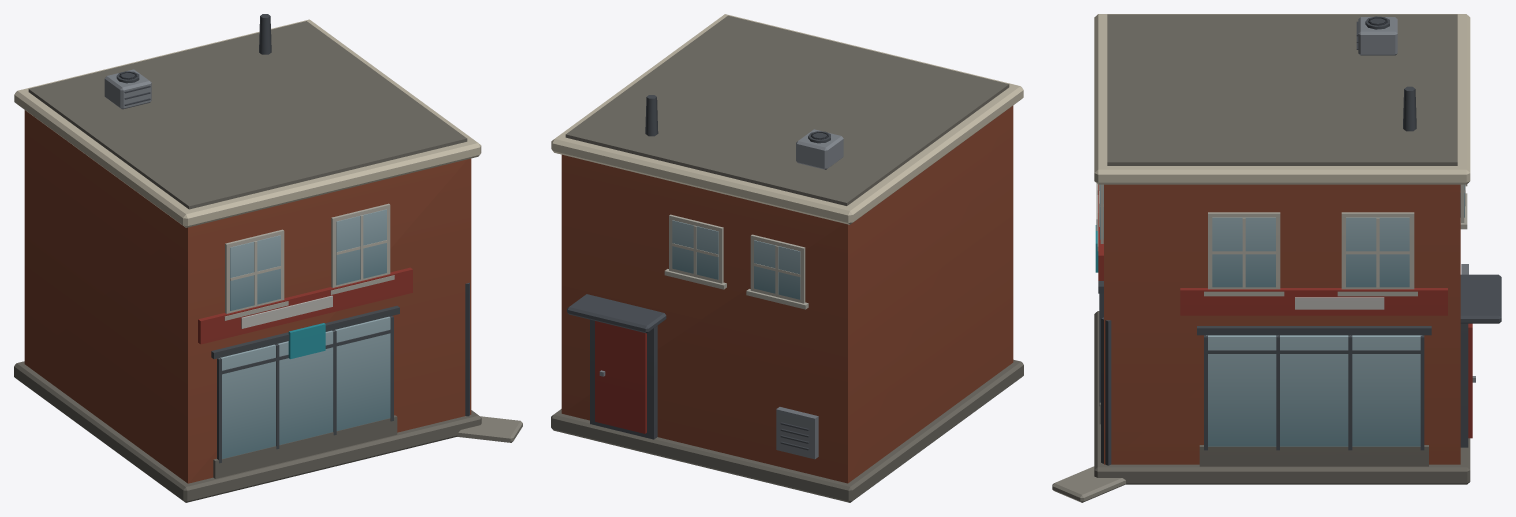
The model's file is corner-store-01.glb.
The picture shows the model from 3 angles, left to right: view 1: azimuth 30°, elevation 25°; view 2: azimuth 150°, elevation 25°; view 3: azimuth 270°, elevation 25°; orthographic projection. The views are drawn at different scales.
Visible parts, largest first — view 1: corner_store_01; view 2: corner_store_01; view 3: corner_store_01.
Part boxes in pixels (left/top/right/bottom): corner_store_01: left=14, top=14, right=522, bottom=502; corner_store_01: left=551, top=14, right=1023, bottom=502; corner_store_01: left=1052, top=14, right=1501, bottom=502.
Size of the model in its own units: 6.56 by 6.2 by 7.05.
